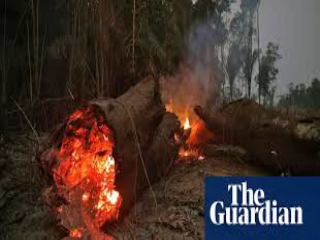fire: (52, 110, 122, 229), (166, 104, 209, 159)
